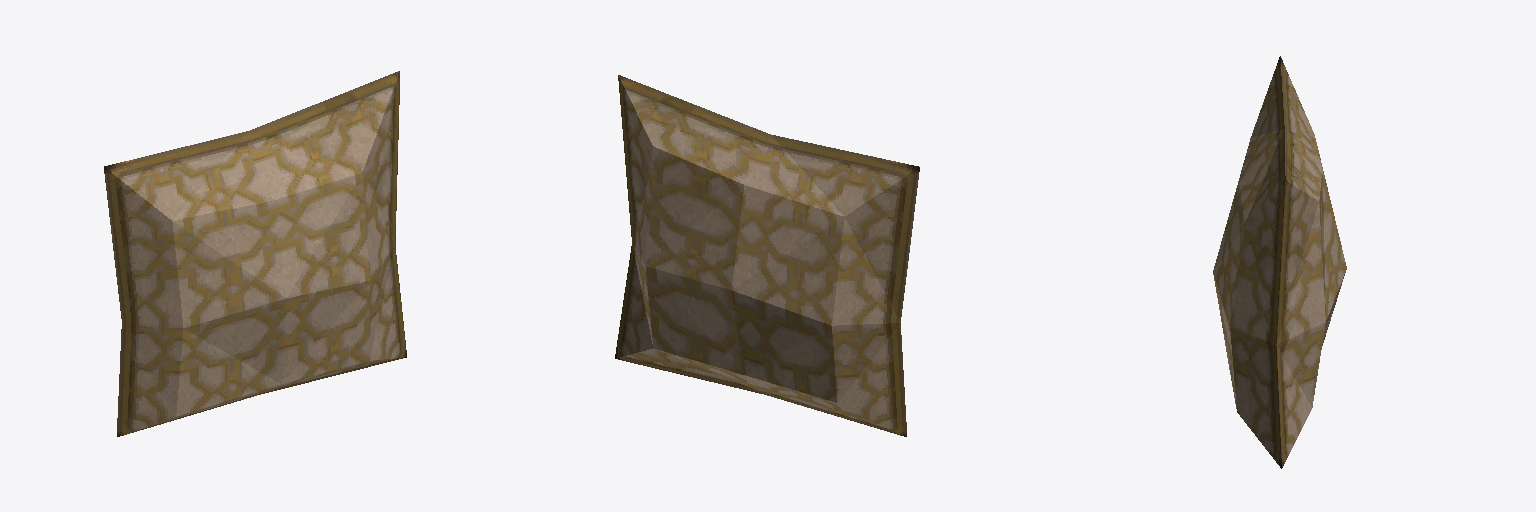
The picture shows the model from 3 angles: view 1: azimuth 30°, elevation 25°; view 2: azimuth 150°, elevation 25°; view 3: azimuth 270°, elevation 25°; orthographic projection.
Visible parts, largest first — view 1: mtl_dub_lounge_sofa_06_pillow; view 2: mtl_dub_lounge_sofa_06_pillow; view 3: mtl_dub_lounge_sofa_06_pillow.
Boxes of the visible parts, x1=… form: mtl_dub_lounge_sofa_06_pillow: x1=104, y1=71, x2=406, y2=436; mtl_dub_lounge_sofa_06_pillow: x1=615, y1=75, x2=919, y2=436; mtl_dub_lounge_sofa_06_pillow: x1=1213, y1=56, x2=1346, y2=468.
Size of the model in its own units: 52.21 by 48.37 by 19.89.
Materials: 1 (1 with a texture image).